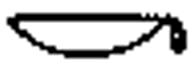Basket: (4, 10, 190, 63)
